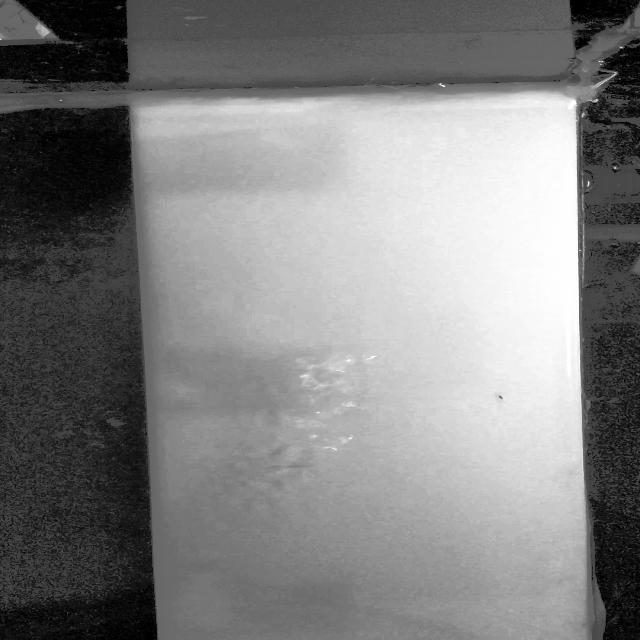shrimp: (490, 390, 512, 406)
